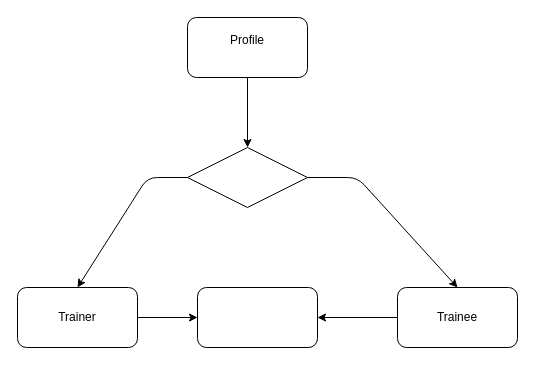
This 535x365 diagram has some shape labels left out. Each missing label, with the box of its shape:
Plan: (196, 286, 318, 348)
Relationship: (186, 146, 308, 208)
